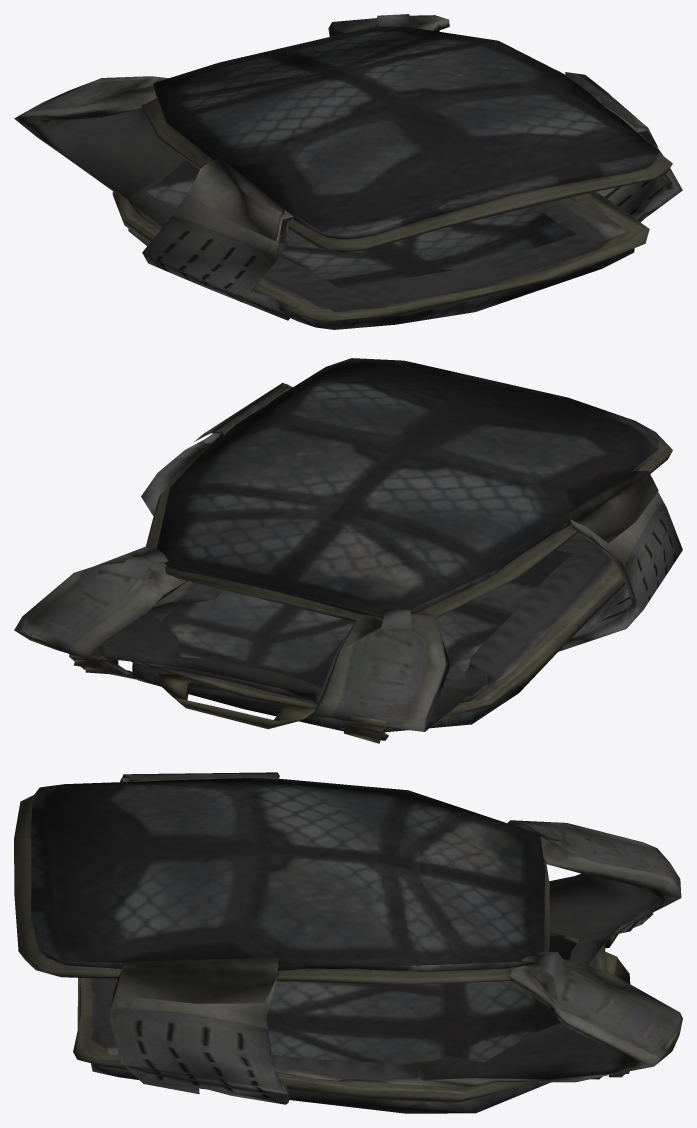
The model's file is TaskForceVest_Ground.fbx.
3 renders of one model, top to bottom at view 1: azimuth 30°, elevation 25°; view 2: azimuth 150°, elevation 25°; view 3: azimuth 270°, elevation 25°, orthographic. The views are drawn at different scales.
Visible parts, largest first — view 1: Vest Main; view 2: Vest Main; view 3: Vest Main.
Part boxes in pixels (x1,y1,x2,y2): Vest Main: (14,14,682,329); Vest Main: (14,358,682,743); Vest Main: (14,772,682,1113).
Size of the model in its own units: 0.2115 by 0.0681 by 0.2248.
